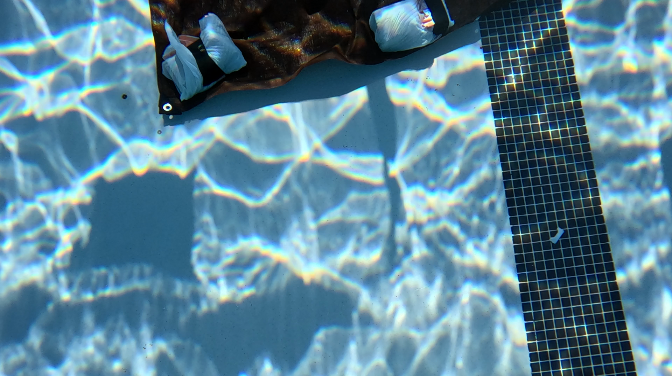sandbag: (148, 0, 506, 115)
